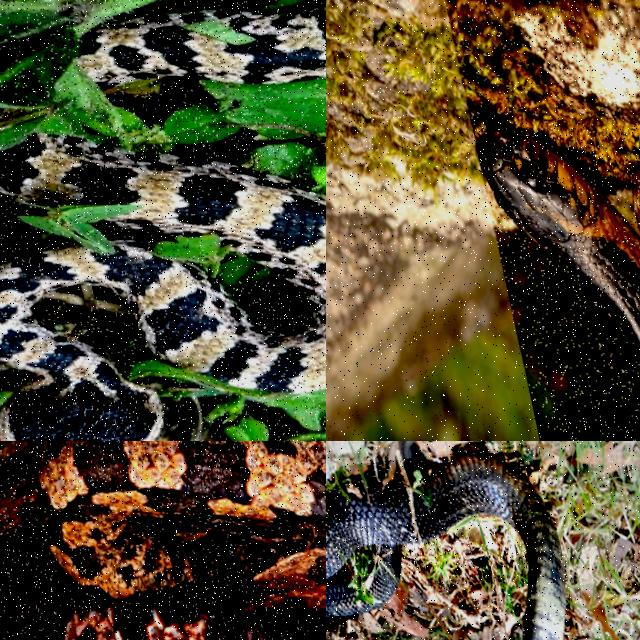Bungarus fasciatus: (476, 126, 639, 342)
Naja kaouthia: (326, 448, 564, 639)
Ovophis monticola: (0, 135, 325, 440), (36, 441, 325, 639)
snake: (0, 135, 325, 440), (36, 441, 325, 639), (326, 448, 564, 639), (476, 126, 639, 342)
